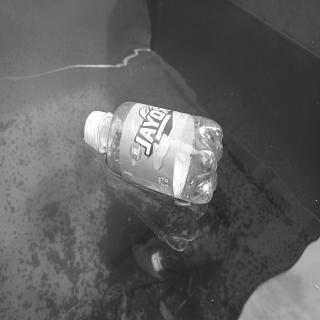bottle: (80, 97, 226, 206)
